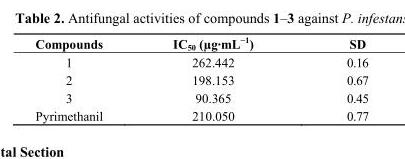table: (34, 34, 367, 122)
table column: (137, 34, 299, 122), (34, 34, 137, 122), (299, 34, 367, 122)
table column header: (34, 34, 367, 53)
table row: (34, 34, 367, 53), (34, 70, 367, 88), (34, 88, 367, 106), (34, 53, 367, 70), (34, 106, 367, 122)
